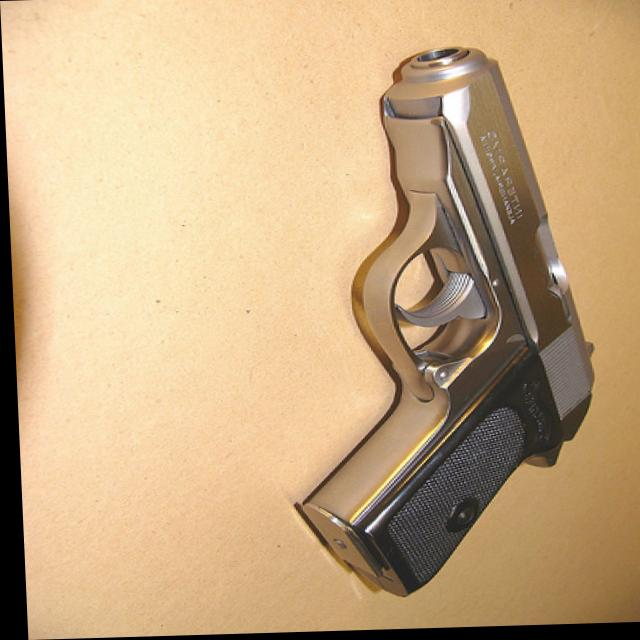handgun: (277, 44, 603, 604)
